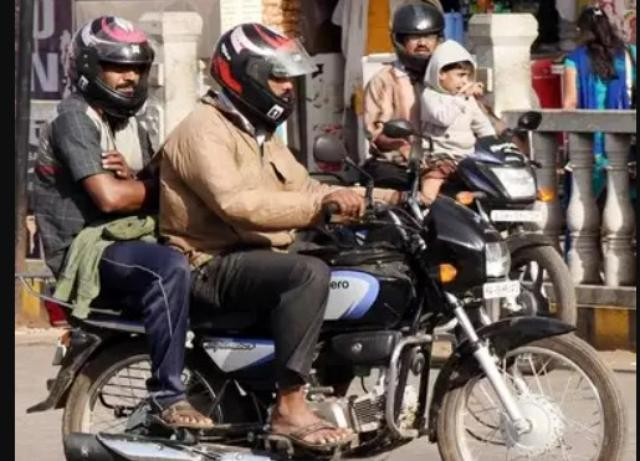licensePlate: (480, 277, 531, 304)
motorcycle: (36, 3, 640, 461)
withHelmet: (211, 19, 312, 124), (65, 11, 159, 110)
